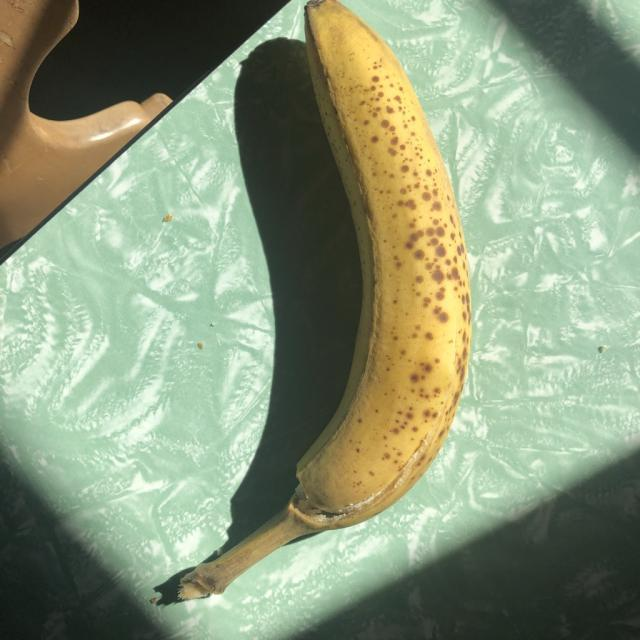Banana: (161, 1, 480, 604)
